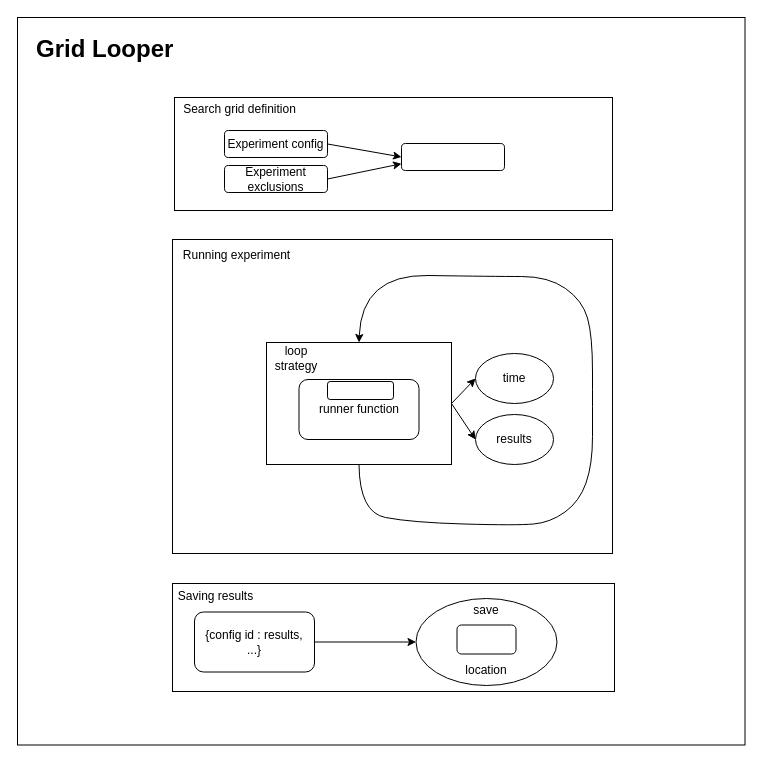
The diagram is 763 pixels wide and 763 high, and some of its shapes have lost their labels. The centre of each missing label's shape, as x and y in pixels:
"config i" belongs at point (360, 390).
"List of experiment configs" belongs at point (452, 156).
"results.dill" belongs at point (486, 639).
